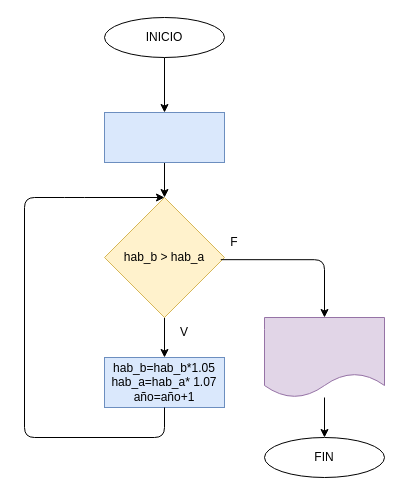
Image size: 402x495. Some labels were removed from this diagram. The shapes that lost their labels are listed below. From the top down, each one's box as (x1, y1, x2, y2) in pixels, then its label:
(104, 112, 224, 162): hab_a=3.500.000 hab_b=5.000.000 año=1980
(264, 316, 384, 398): año
